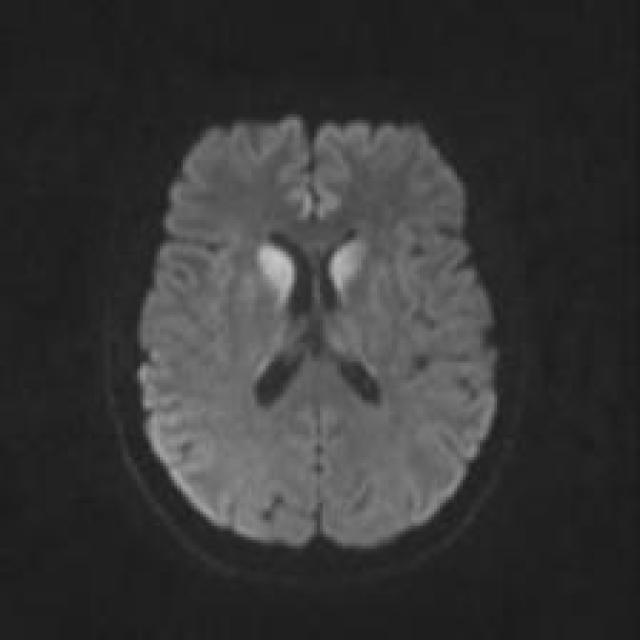no_tumor: (107, 73, 541, 581)
